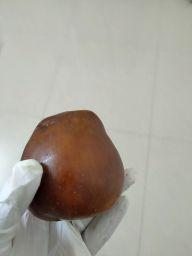Apple Rotten: (17, 107, 127, 223)
